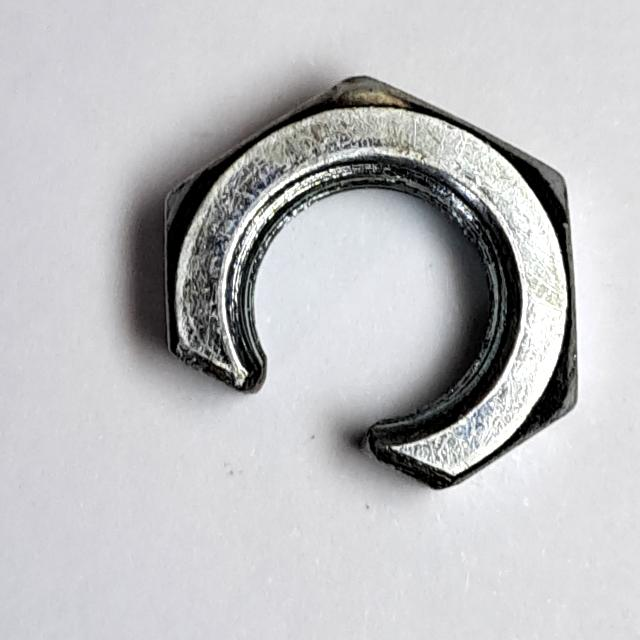Fracture: (143, 62, 589, 506)
